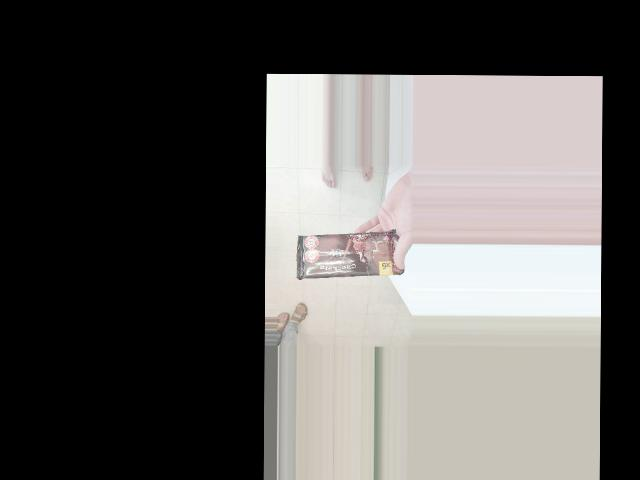chocolate: (291, 217, 349, 328)
